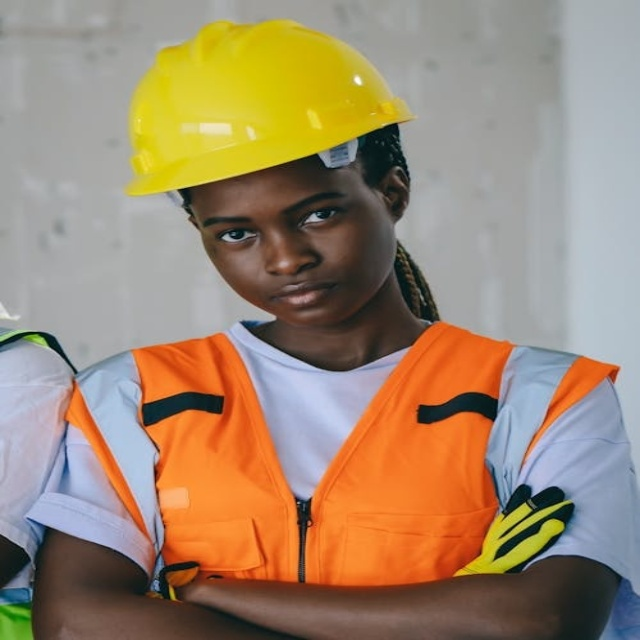Guantes: (442, 475, 580, 579)
Sin_gafas: (197, 197, 370, 242)
Sin_mascara: (253, 276, 349, 317)
